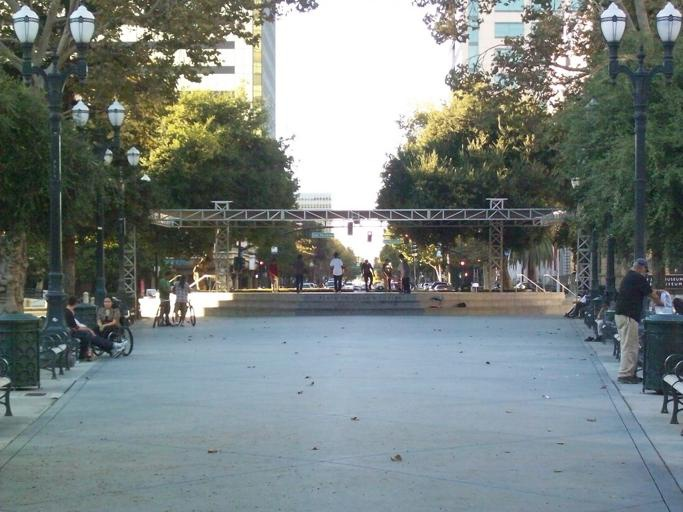non-vehicle: (170, 299, 197, 326), (151, 297, 164, 327)
